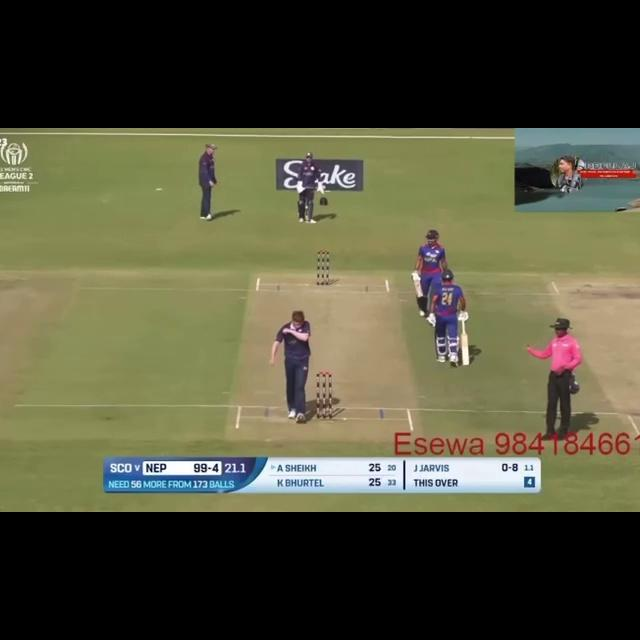umpire: (518, 312, 581, 436)
